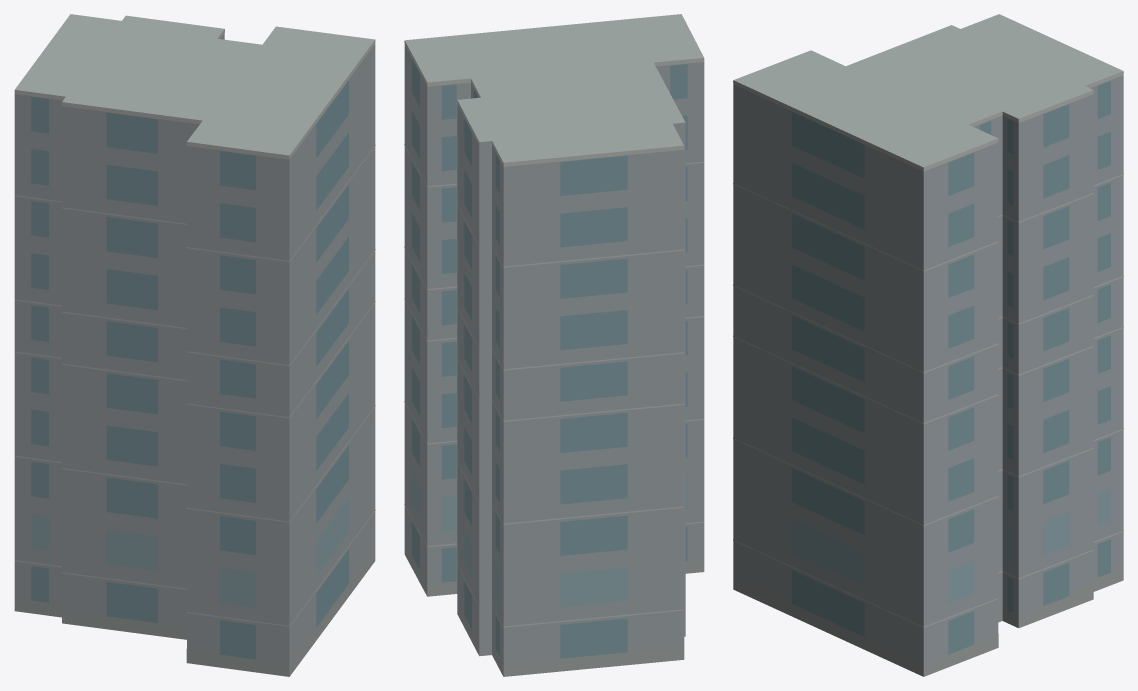
The model's file is survey-upis-32736463.glb.
3 views of the same model, side by side, from view 1: azimuth 30°, elevation 25°; view 2: azimuth 150°, elevation 25°; view 3: azimuth 270°, elevation 25° (orthographic). The views are drawn at different scales.
Visible parts, largest first — view 1: survey-upis-32736463.tmp; view 2: survey-upis-32736463.tmp; view 3: survey-upis-32736463.tmp.
Boxes of the visible parts, x1,y1,x2,y2 form: survey-upis-32736463.tmp: [14, 14, 375, 676]; survey-upis-32736463.tmp: [404, 14, 704, 676]; survey-upis-32736463.tmp: [733, 14, 1123, 676].
Bounding box in the file's own units: 19.74 × 30.5 × 21.21.
